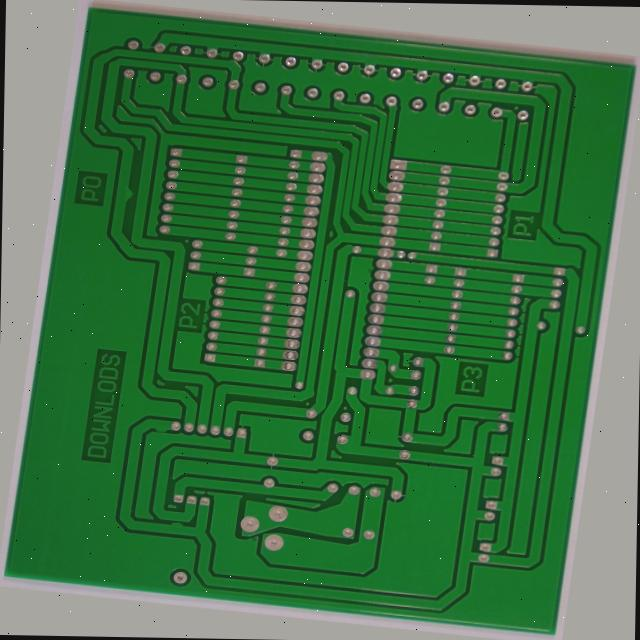spur: (78, 190, 97, 213), (177, 545, 202, 556), (145, 444, 169, 455)
